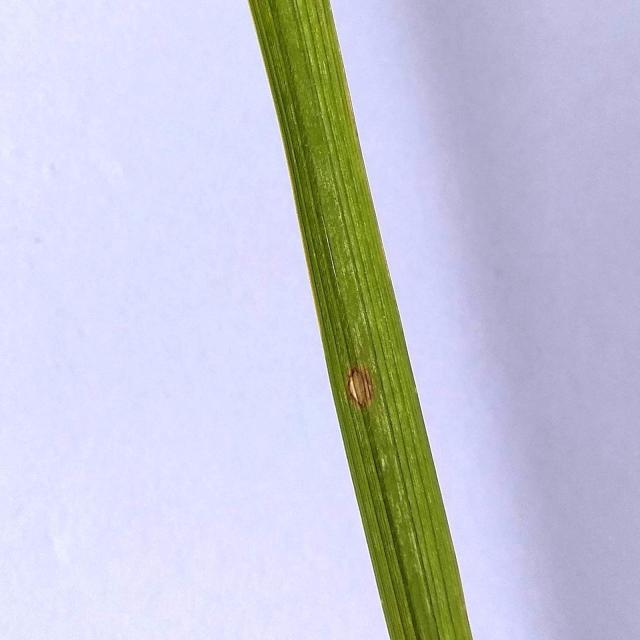Leaf blast: (203, 0, 552, 640)
